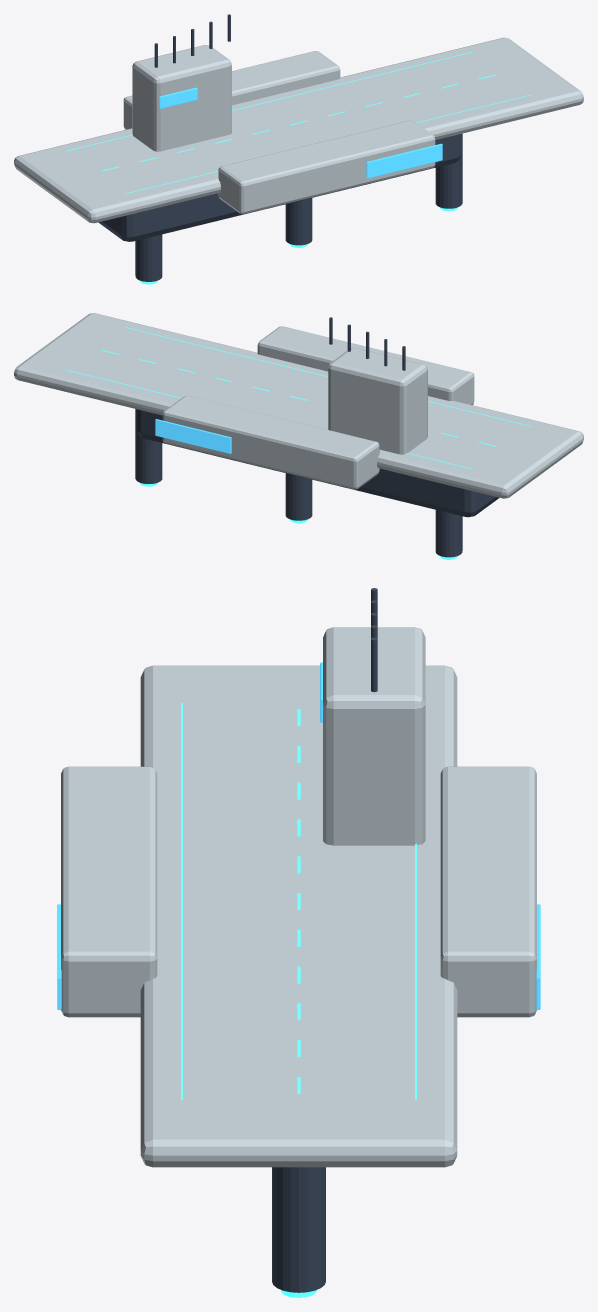
The model's file is vanguard-ozone-base-v1.glb.
3 views of the same model, one above another, from view 1: azimuth 30°, elevation 25°; view 2: azimuth 150°, elevation 25°; view 3: azimuth 270°, elevation 25° (orthographic). The views are drawn at different scales.
Parts seen in each view (by area): view 1: vanguard_ozone_base__lod0__Vanguard aerospace shell, vanguard_ozone_base__lod0__Vanguard structural frame, vanguard_ozone_base__lod0__Vanguard recessed glazing, vanguard_ozone_base__lod0__Vanguard emissive guidance; view 2: vanguard_ozone_base__lod0__Vanguard aerospace shell, vanguard_ozone_base__lod0__Vanguard structural frame, vanguard_ozone_base__lod0__Vanguard recessed glazing, vanguard_ozone_base__lod0__Vanguard emissive guidance; view 3: vanguard_ozone_base__lod0__Vanguard aerospace shell, vanguard_ozone_base__lod0__Vanguard structural frame, vanguard_ozone_base__lod0__Vanguard emissive guidance, vanguard_ozone_base__lod0__Vanguard recessed glazing.
Boxes of the visible parts, x1=… form: vanguard_ozone_base__lod0__Vanguard aerospace shell: x1=14, y1=37, x2=583, y2=223; vanguard_ozone_base__lod0__Vanguard structural frame: x1=98, y1=14, x2=462, y2=281; vanguard_ozone_base__lod0__Vanguard recessed glazing: x1=159, y1=87, x2=442, y2=178; vanguard_ozone_base__lod0__Vanguard emissive guidance: x1=66, y1=51, x2=531, y2=284; vanguard_ozone_base__lod0__Vanguard aerospace shell: x1=14, y1=313, x2=583, y2=498; vanguard_ozone_base__lod0__Vanguard structural frame: x1=135, y1=317, x2=499, y2=557; vanguard_ozone_base__lod0__Vanguard recessed glazing: x1=155, y1=419, x2=231, y2=453; vanguard_ozone_base__lod0__Vanguard emissive guidance: x1=66, y1=327, x2=531, y2=559; vanguard_ozone_base__lod0__Vanguard aerospace shell: x1=61, y1=627, x2=536, y2=1167; vanguard_ozone_base__lod0__Vanguard structural frame: x1=272, y1=588, x2=377, y2=1292; vanguard_ozone_base__lod0__Vanguard emissive guidance: x1=181, y1=703, x2=416, y2=1297; vanguard_ozone_base__lod0__Vanguard recessed glazing: x1=57, y1=662, x2=540, y2=1009.
Size of the model in its own units: 760 by 334 by 321.
